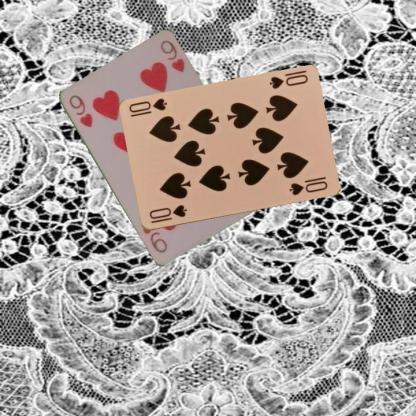10s: (146, 202, 188, 225), (266, 72, 309, 90)
9h: (66, 92, 94, 129)
